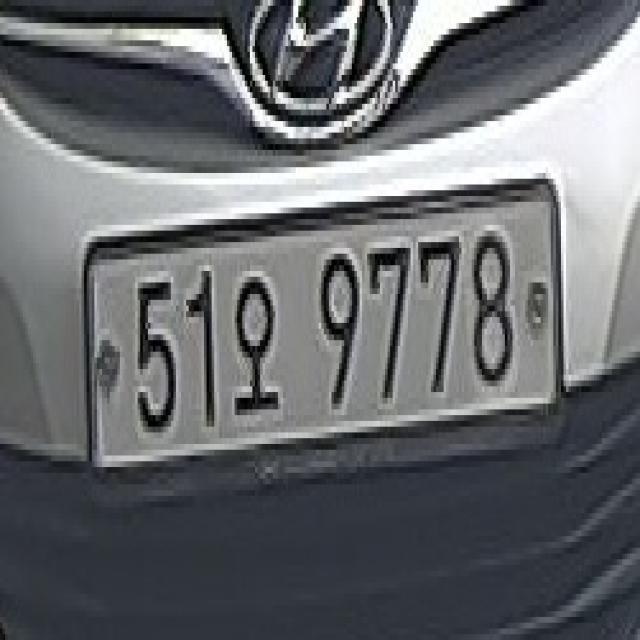1: (186, 264, 222, 462)
5: (130, 272, 181, 451)
7: (417, 222, 458, 415), (364, 236, 409, 408)
8: (468, 214, 510, 405)
9: (319, 248, 360, 424)
license_plate: (77, 159, 574, 497)
o: (232, 261, 286, 452)
